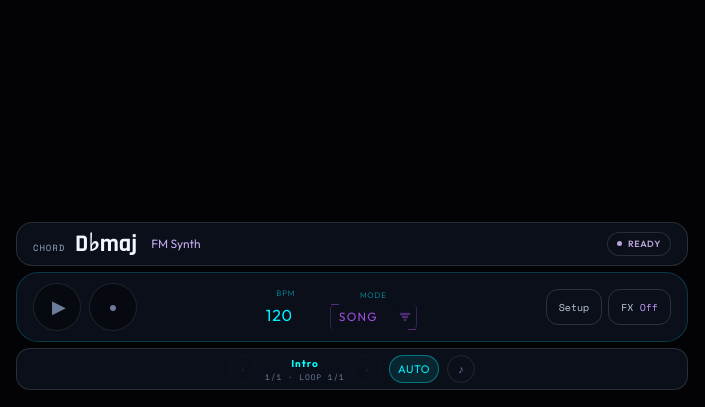
Test case: uses song section spelling and keeps section navigation accessible in Song mode
The width and height of the screenshot is (705, 407).
Expected: the element named "Selected chord: D♭maj" is shown, x1=33 y1=231 x2=137 y2=257
Click the button "Setup": (574,307) x1=546 y1=289 x2=602 y2=325
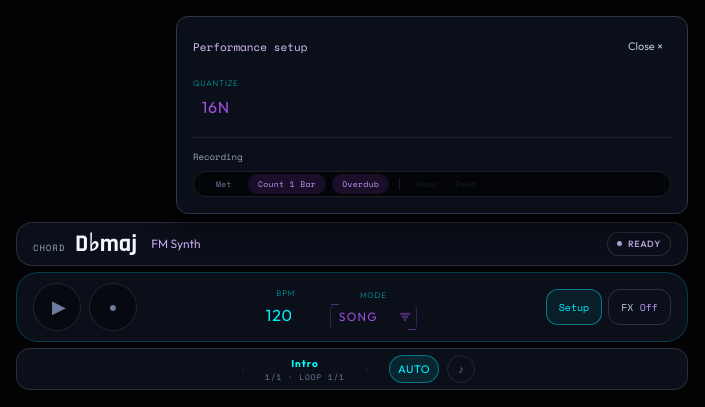
Now the button named "Quantize to sixteenth notes" is shown, box x1=196 y1=93 x2=236 y2=121
